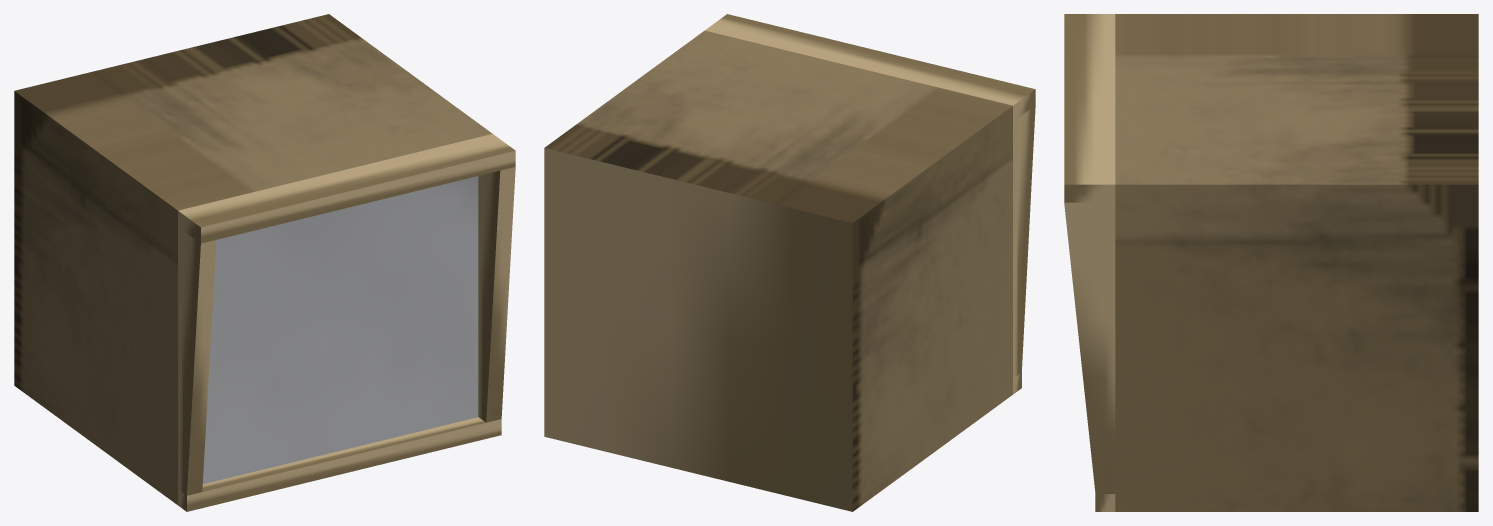
Rendered from pz_g020_location_shop_generic_01_shop_display_counter.obj.
3 views of the same model, side by side, from view 1: azimuth 30°, elevation 25°; view 2: azimuth 150°, elevation 25°; view 3: azimuth 270°, elevation 25° (orthographic). The views are drawn at different scales.
Visible parts, largest first — view 1: recessed_tray_top, display_base_front, display_base_right, side_rim_right, side_rim_top, rear_rim_front, front_rim_top, rear_rim_top, front_rim_front; view 2: display_base_bottom, display_base_front, display_base_right, rear_rim_front, side_rim_right; view 3: display_base_left, display_base_front, side_rim_left, rear_rim_front, rear_rim_left.
Boxes of the visible parts, left/top/right/bottom form: recessed_tray_top: left=202, top=176, right=478, bottom=484; display_base_front: left=14, top=14, right=492, bottom=210; display_base_right: left=14, top=91, right=177, bottom=504; side_rim_right: left=178, top=170, right=500, bottom=495; side_rim_top: left=187, top=167, right=515, bottom=495; rear_rim_front: left=178, top=134, right=515, bottom=227; front_rim_top: left=187, top=419, right=501, bottom=511; rear_rim_top: left=201, top=150, right=515, bottom=243; front_rim_front: left=202, top=417, right=485, bottom=491; display_base_bottom: left=544, top=148, right=852, bottom=511; display_base_front: left=544, top=30, right=1012, bottom=222; display_base_right: left=852, top=106, right=1012, bottom=511; rear_rim_front: left=705, top=14, right=1035, bottom=105; side_rim_right: left=1013, top=105, right=1035, bottom=378; display_base_left: left=1115, top=184, right=1478, bottom=511; display_base_front: left=1115, top=14, right=1478, bottom=184; side_rim_left: left=1064, top=202, right=1115, bottom=493; rear_rim_front: left=1064, top=14, right=1115, bottom=184; rear_rim_left: left=1064, top=184, right=1115, bottom=202.
Bounding box in the file's own units: 0.916 × 0.8198 × 0.941.
Materials: 1 (1 with a texture image).
